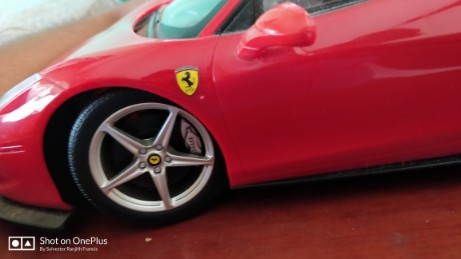unaligned_wheel: (57, 86, 225, 231)
